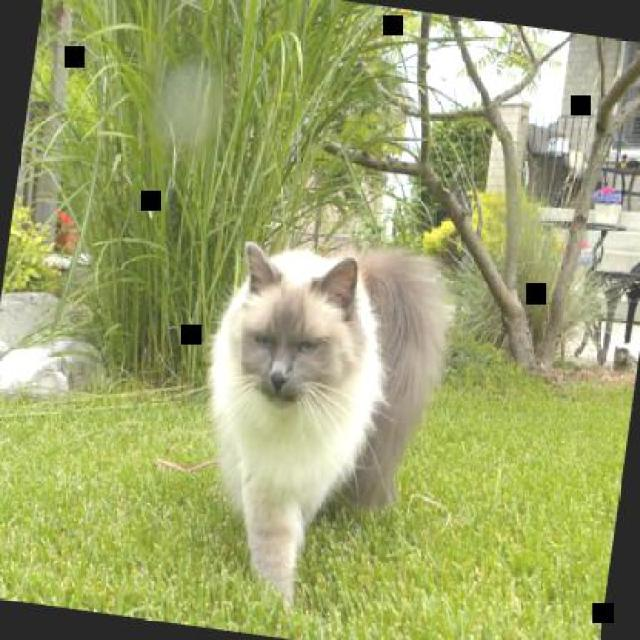cat: (178, 225, 458, 624)
